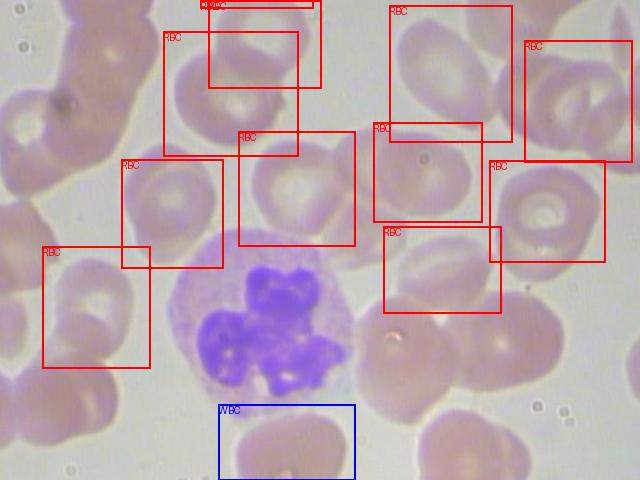RBC: (163, 31, 298, 156), (389, 5, 512, 142), (238, 131, 355, 246), (42, 246, 150, 368), (524, 40, 632, 162), (489, 160, 605, 262), (121, 159, 223, 268), (373, 122, 482, 222), (383, 226, 501, 313), (208, 0, 321, 88), (200, 0, 313, 8)
WBC: (218, 404, 355, 480)
